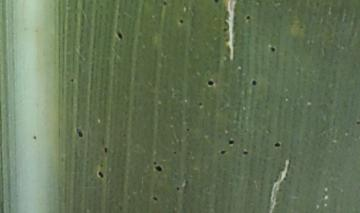tarspot: (73, 124, 87, 140), (271, 136, 282, 154), (94, 167, 107, 182), (194, 98, 207, 111), (205, 76, 216, 91), (99, 143, 111, 156), (268, 43, 280, 56), (248, 76, 259, 90), (114, 28, 124, 43), (66, 75, 78, 87), (240, 13, 255, 22), (176, 16, 188, 27), (152, 164, 164, 175), (226, 136, 237, 147), (172, 183, 183, 194), (29, 133, 41, 143), (150, 193, 159, 204), (241, 148, 250, 158), (183, 124, 191, 135), (171, 148, 179, 159), (158, 1, 170, 8), (218, 148, 227, 157), (211, 1, 225, 6), (352, 120, 359, 128)
